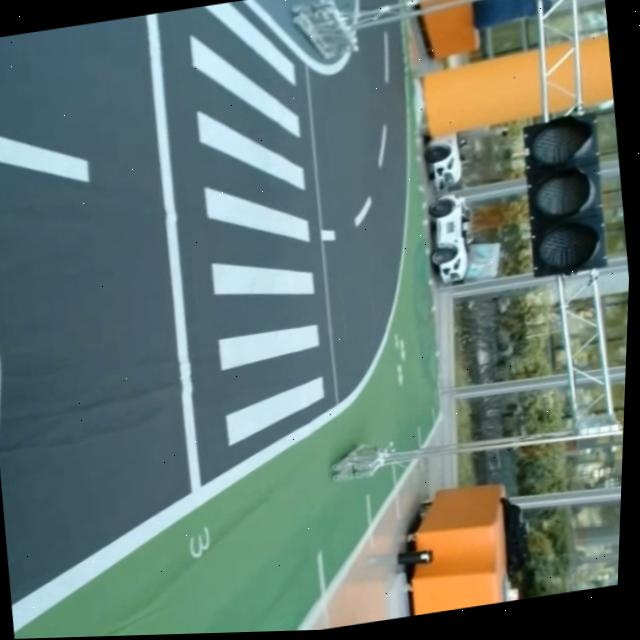traffic-light: (513, 103, 617, 285)
